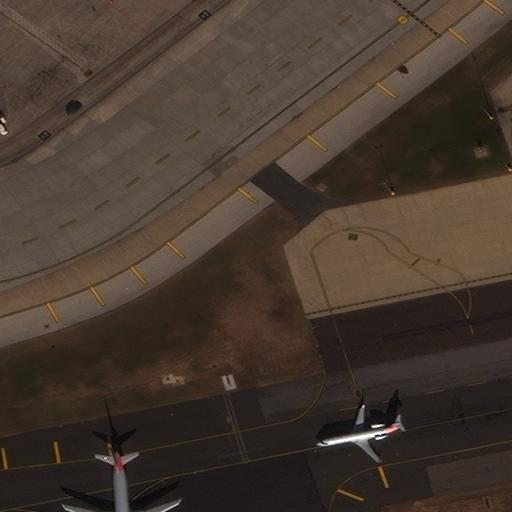Medium Civil Transport: (61, 445, 180, 512), (316, 405, 401, 461)
